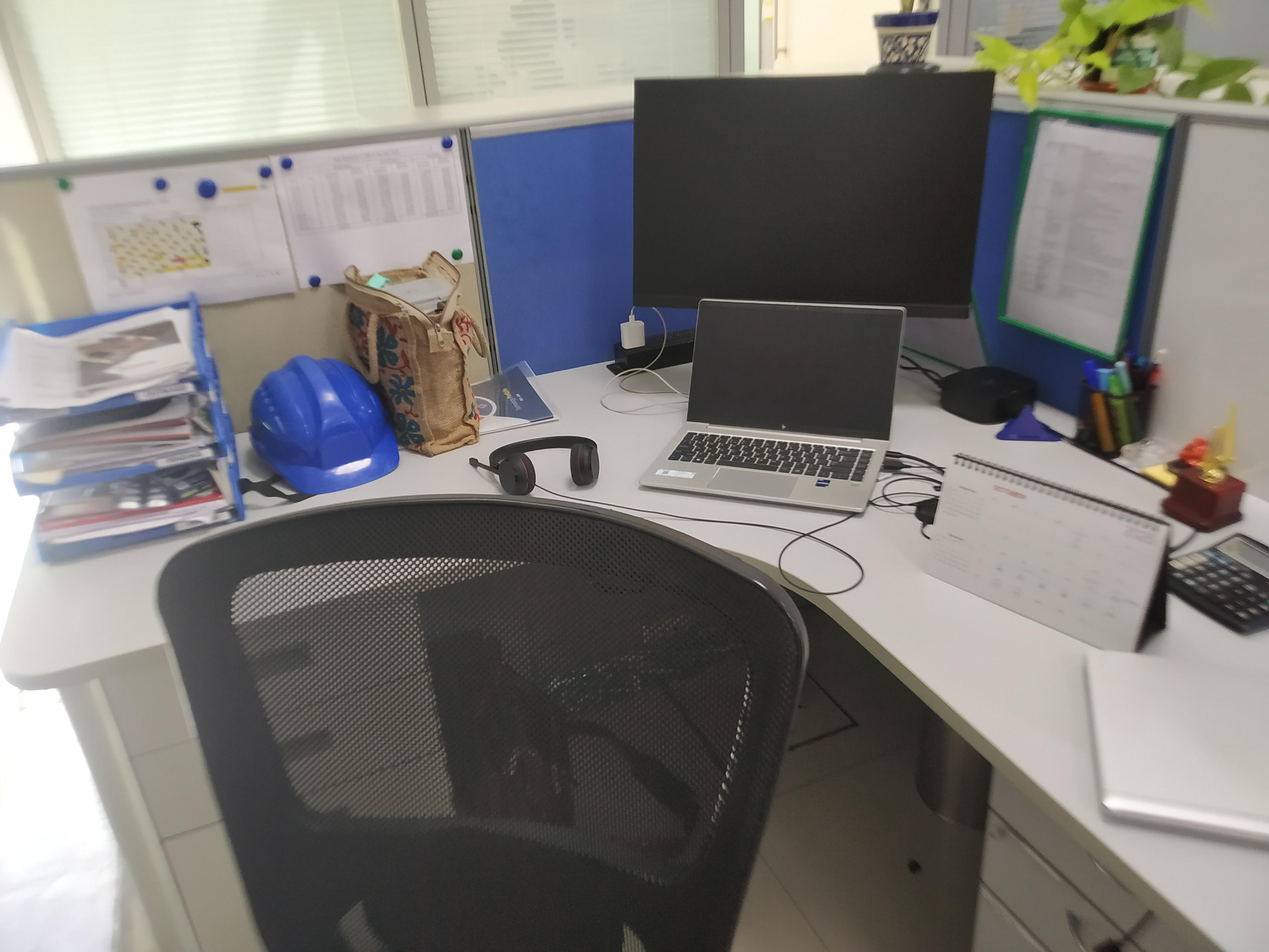calender: (918, 449, 1175, 669)
desktop: (627, 66, 1001, 326)
filetray: (1, 292, 247, 568)
headphone: (464, 433, 601, 498)
laptop: (636, 296, 913, 518)
page: (993, 103, 1176, 367), (48, 148, 300, 314), (269, 132, 482, 298)
